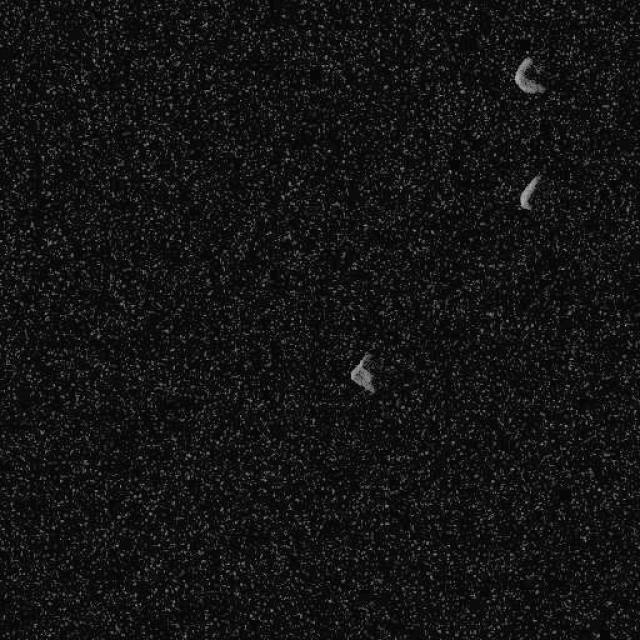D2: (512, 55, 548, 95), (349, 350, 376, 394), (518, 171, 542, 210)
